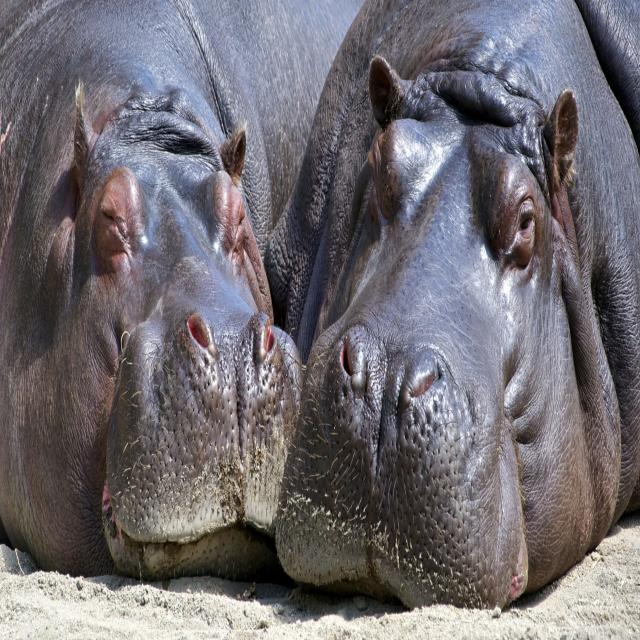Hippopotamus: (286, 0, 640, 640), (0, 11, 300, 574)
